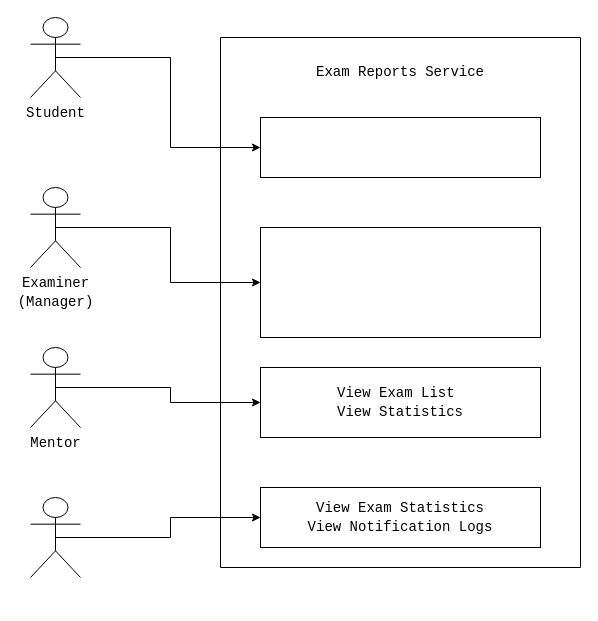
Some shapes in this 598 by 621 pixel diagram are drawn without their labels. Each missing label, with the centre of its shape:
"Admin" belongs at pixel 55 537.
"View Exam Day List View Batch Reports View Statistics View Notification Logs" belongs at pixel 400 282.
"View Exam Summary View Exam Detail Review Exam Questions" belongs at pixel 400 147.
